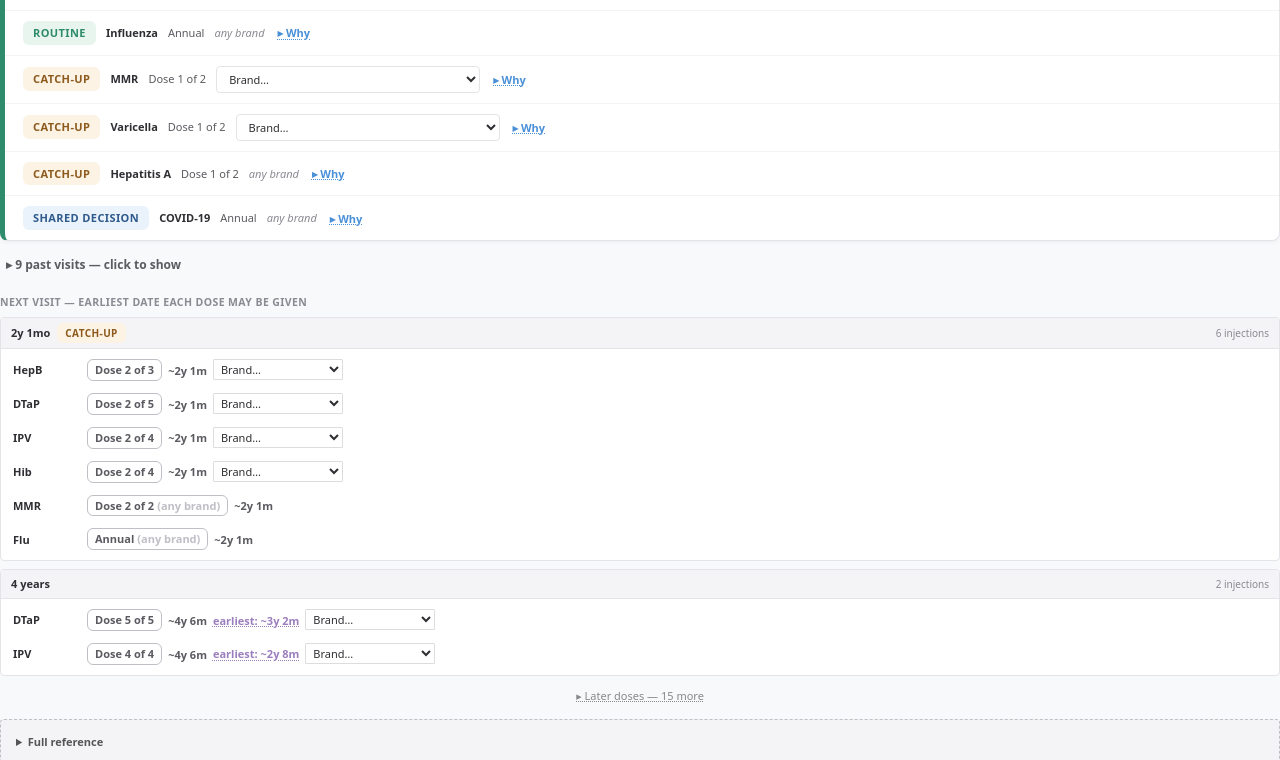
ForecastTab — future first-dose fallback › empty 2yo: 11-years card shows Tdap, MenACWY, and HPV first doses
The width and height of the screenshot is (1280, 760).
(page scrolled)
Click the button with class "fct-show-full-btn".
click(640, 695)  # box [568,684,712,707]
(page scrolled)
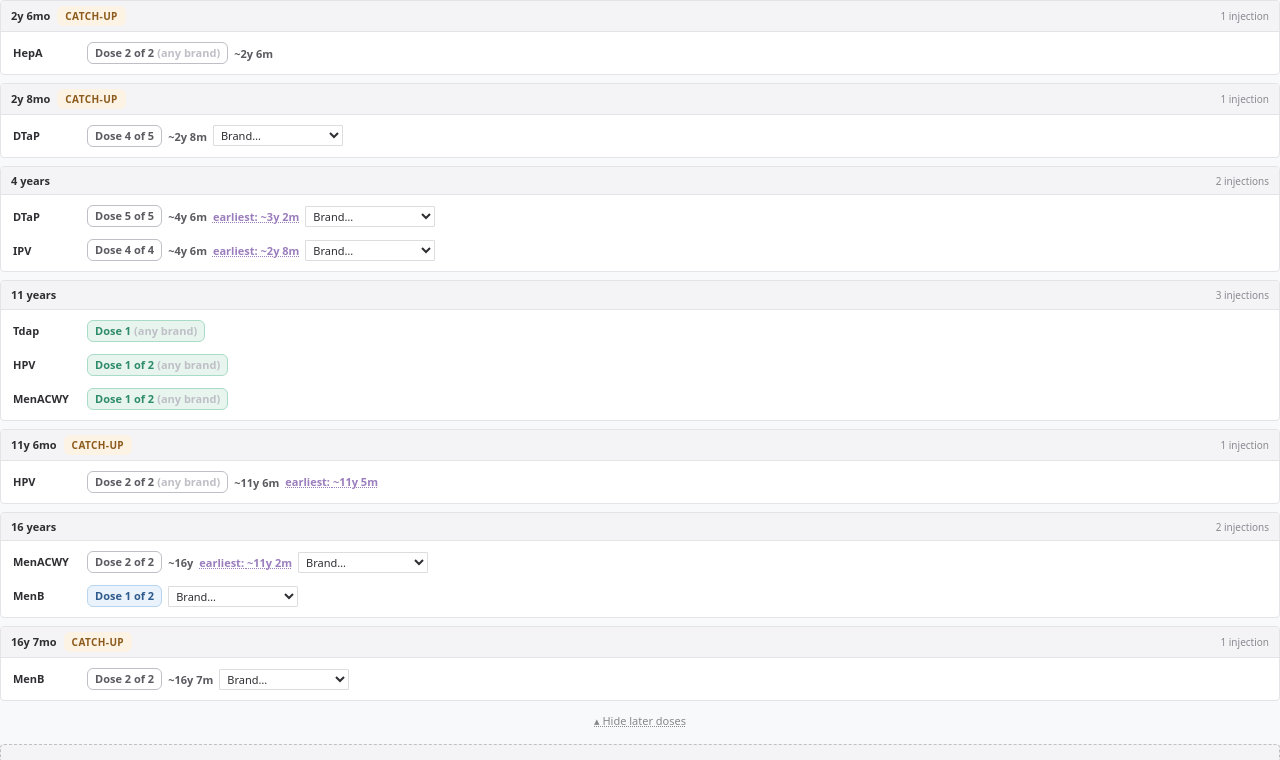
Expected: the element that starts with "11 years" is shown, [0,280,1279,421]
Expected: the element showing "Tdap Dose 1(any brand)" is shown, [13,320,205,342]
Expected: the element showing "MenACWY Dose 1 of 2(any brand)" is shown, [13,388,228,410]
